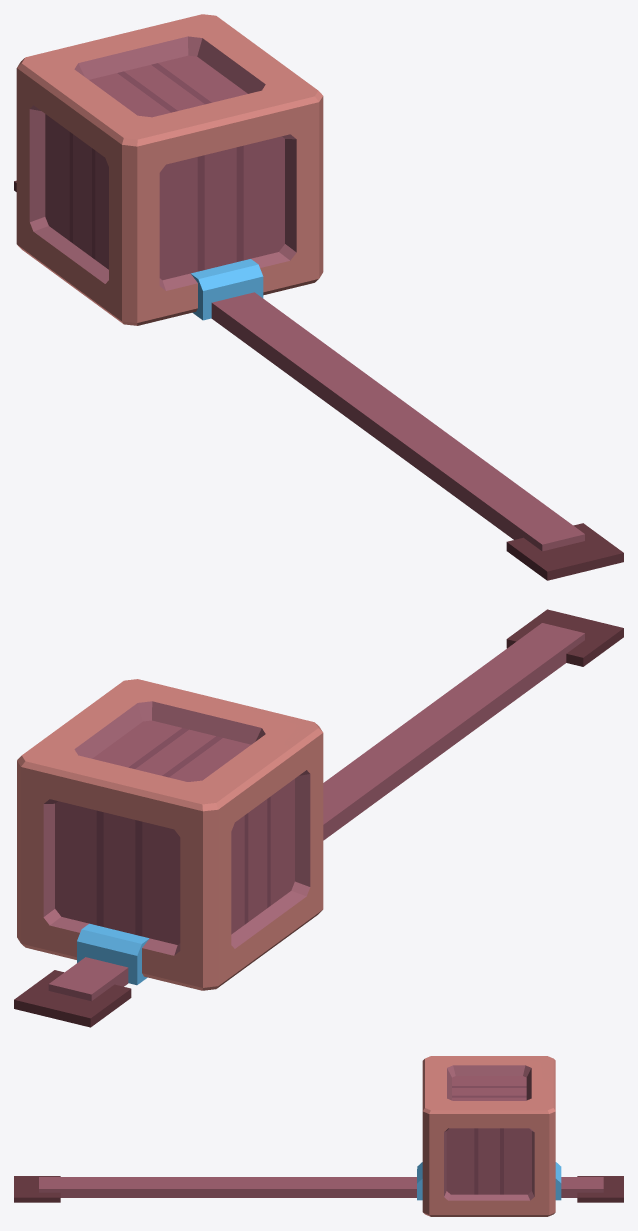
File: rails.fbx
3 views of the same model, one above another, from view 1: azimuth 30°, elevation 25°; view 2: azimuth 150°, elevation 25°; view 3: azimuth 270°, elevation 25° (orthographic). The views are drawn at different scales.
Parts seen in each view (by area): view 1: crate, Rail, Point02; view 2: crate, Rail, Point01, Point02; view 3: crate, Rail, Point02, Point01.
Part boxes in pixels (left/top/right/bottom): crate: left=16, top=14, right=323, bottom=325; Rail: left=211, top=292, right=584, bottom=551; Point02: left=506, top=523, right=623, bottom=580; crate: left=17, top=679, right=323, bottom=990; Rail: left=48, top=623, right=584, bottom=1001; Point01: left=14, top=970, right=131, bottom=1027; Point02: left=506, top=609, right=623, bottom=666; crate: left=417, top=1056, right=561, bottom=1216; Rail: left=39, top=1177, right=603, bottom=1197; Point02: left=14, top=1176, right=60, bottom=1202; Point01: left=577, top=1176, right=623, bottom=1202.
Size of the model in its own units: 0.91 by 0.8218 by 4.17.
